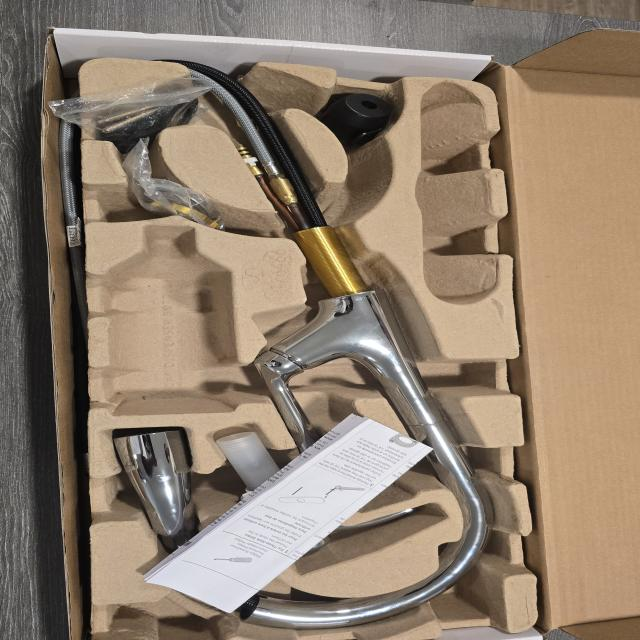1o: (116, 60, 498, 629)
2o: (216, 431, 413, 553)
3m: (103, 225, 232, 414)
4m: (415, 82, 499, 304)
5: (318, 93, 397, 152)
6: (122, 139, 226, 227)
7: (47, 78, 219, 144)
8: (142, 412, 435, 614)
